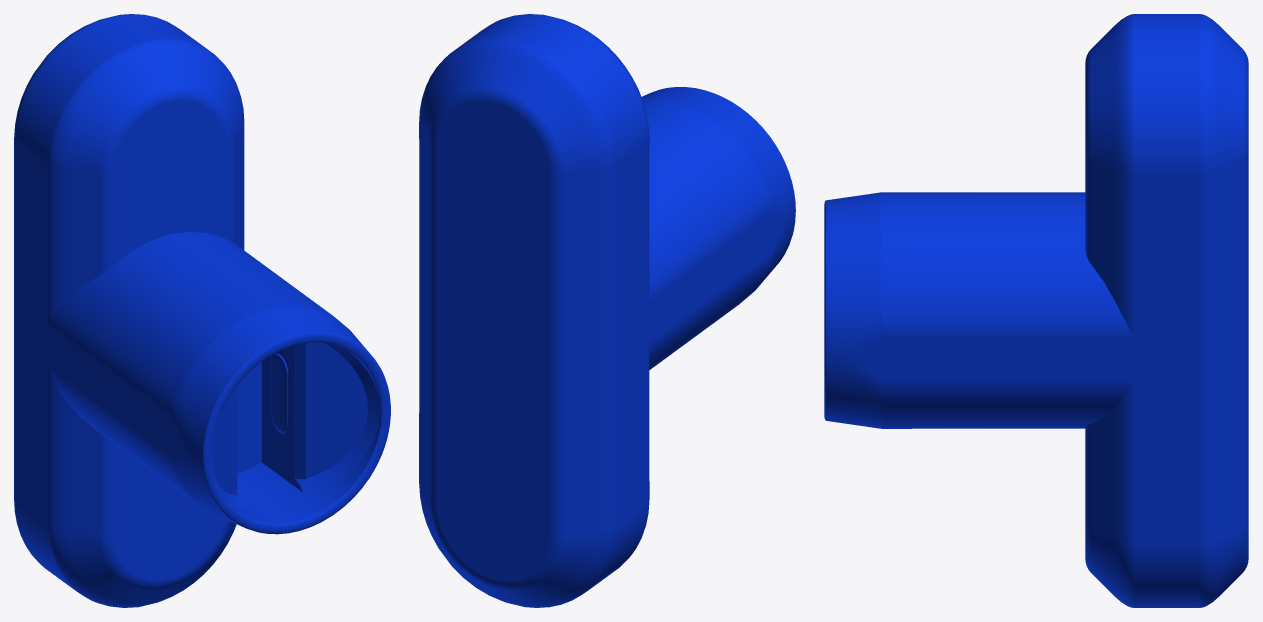
File: P10 - Handle Grip v1.0 (0.2 Layer Height).obj
3 renders of one model, left to right at view 1: azimuth 30°, elevation 25°; view 2: azimuth 150°, elevation 25°; view 3: azimuth 270°, elevation 25°, orthographic.
Visible parts, largest first — view 1: Body1; view 2: Body1; view 3: Body1.
Boxes of the visible parts, x1=… form: Body1: x1=14, y1=14, x2=390, y2=607; Body1: x1=419, y1=14, x2=795, y2=607; Body1: x1=824, y1=14, x2=1248, y2=607.
Size of the model in its own units: 2.8 by 7.75 by 5.2.
